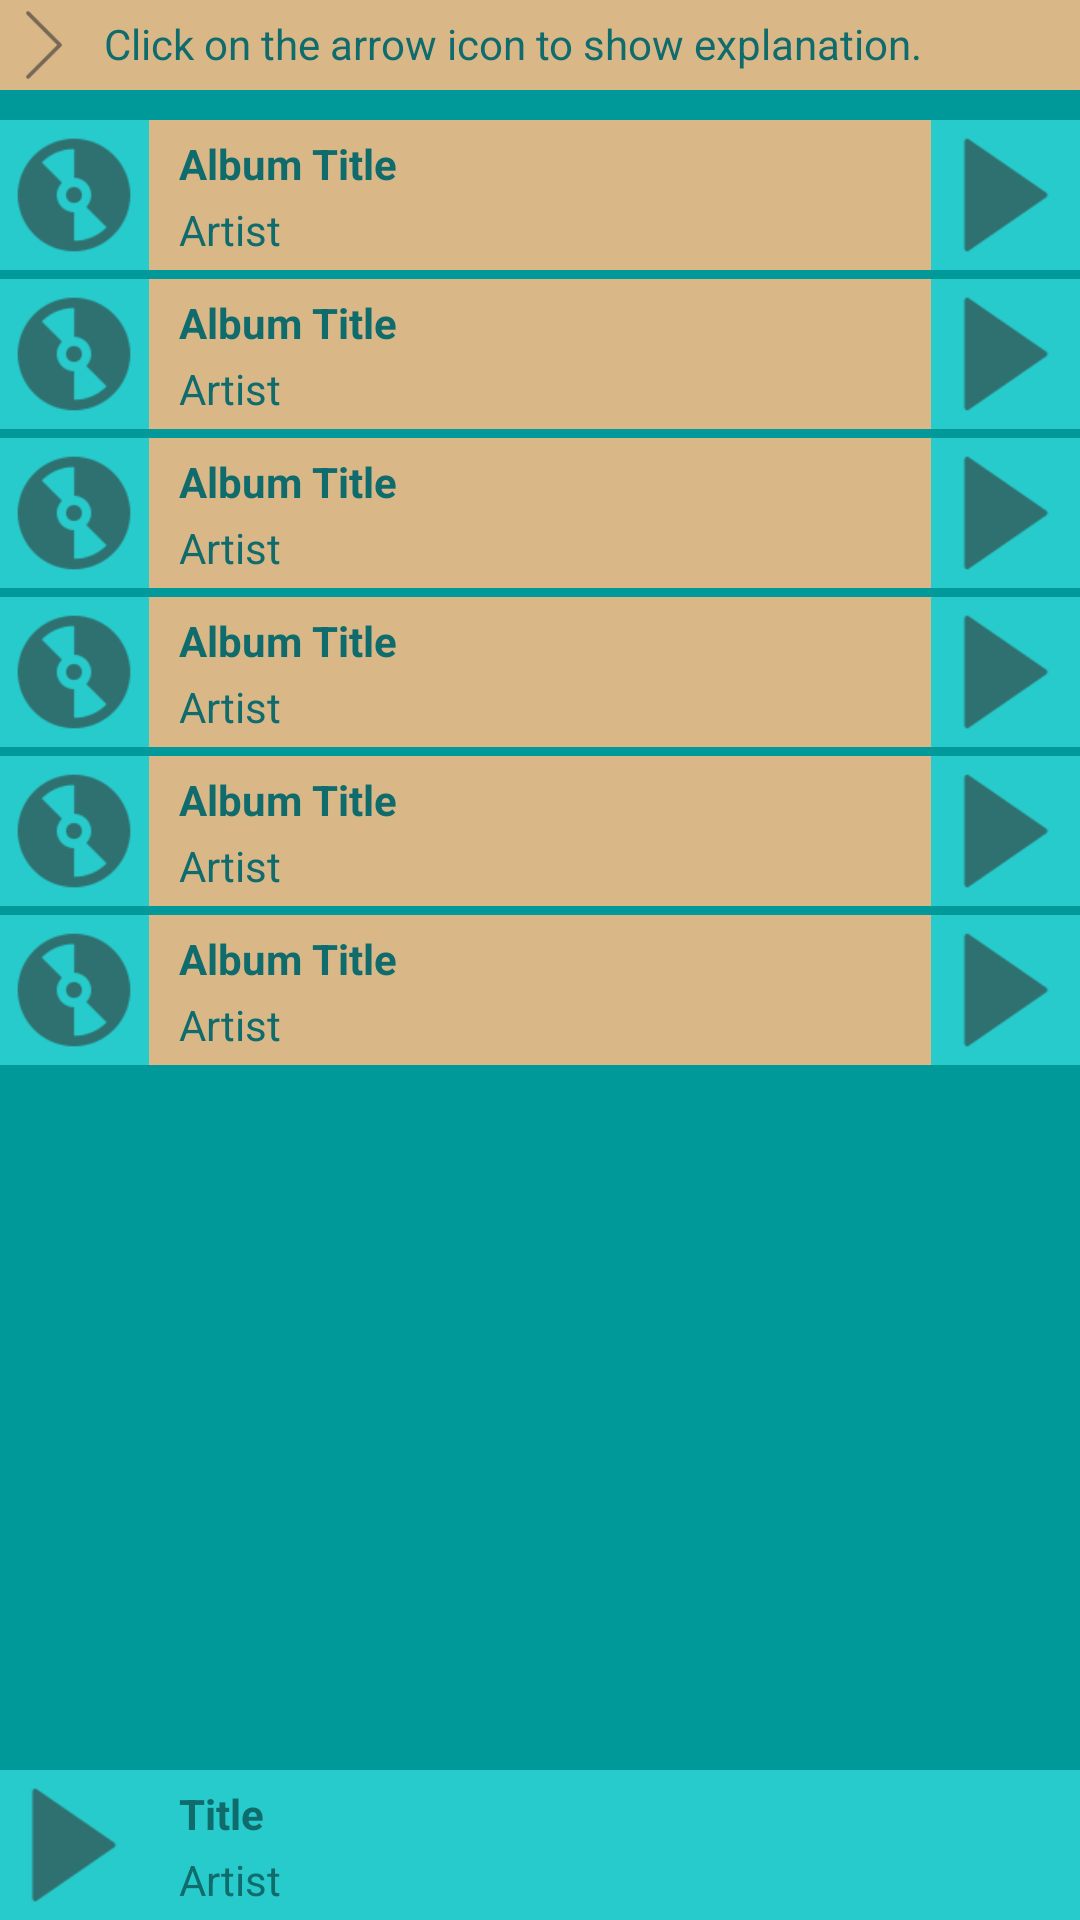

Locate icon controls on the screen. Image size 1080px×1920px, boxes as [left=x1, top=y1, right=x2, bottom=y2].
arrow side: [left=26, top=11, right=62, bottom=79]
play: [left=931, top=120, right=1080, bottom=270], [left=931, top=279, right=1080, bottom=429], [left=931, top=438, right=1080, bottom=588], [left=931, top=597, right=1080, bottom=747], [left=931, top=756, right=1080, bottom=906], [left=931, top=915, right=1080, bottom=1065], [left=32, top=1788, right=116, bottom=1902]
